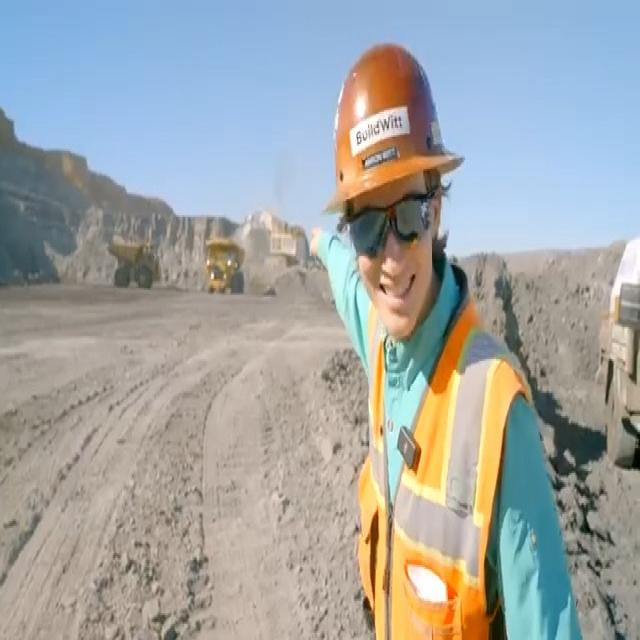dump_truck: (202, 238, 246, 298), (108, 240, 159, 291)
